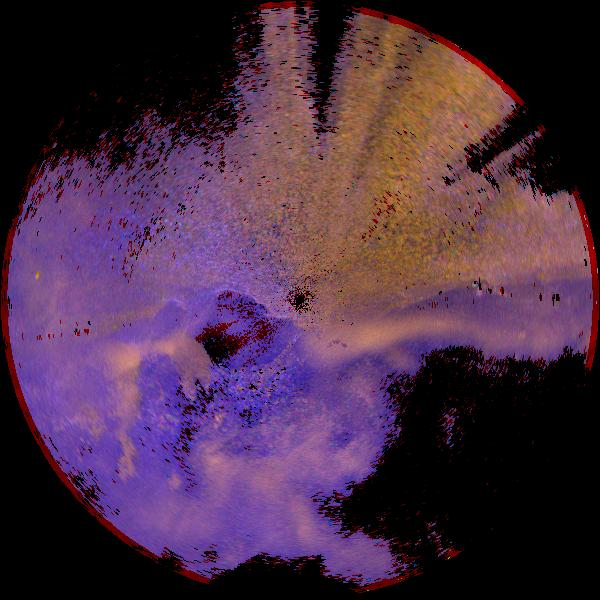roost: (42, 331, 156, 445), (72, 420, 144, 492)
